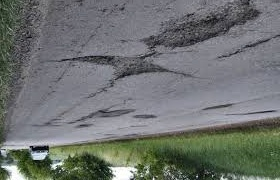pothole: (119, 6, 260, 45), (57, 50, 184, 81), (80, 107, 137, 120), (228, 110, 278, 118), (194, 104, 234, 112), (30, 122, 59, 128), (133, 114, 157, 120), (77, 124, 92, 130), (51, 117, 63, 123)
